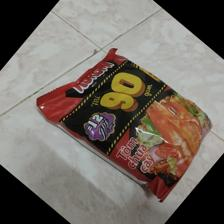Kokomi: (37, 47, 214, 201)
